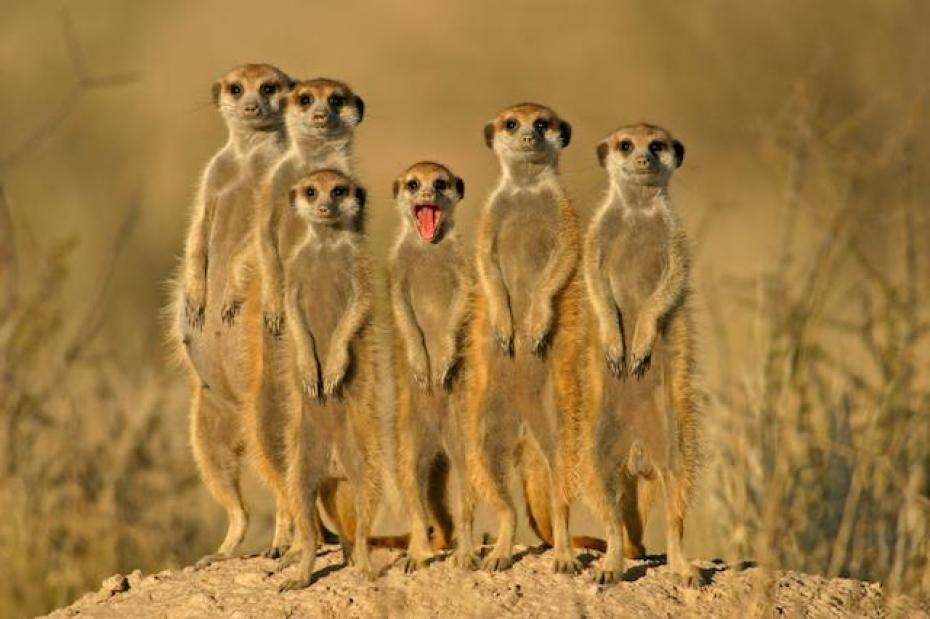meerkat: (159, 45, 296, 579), (584, 112, 719, 579), (369, 118, 504, 585)
